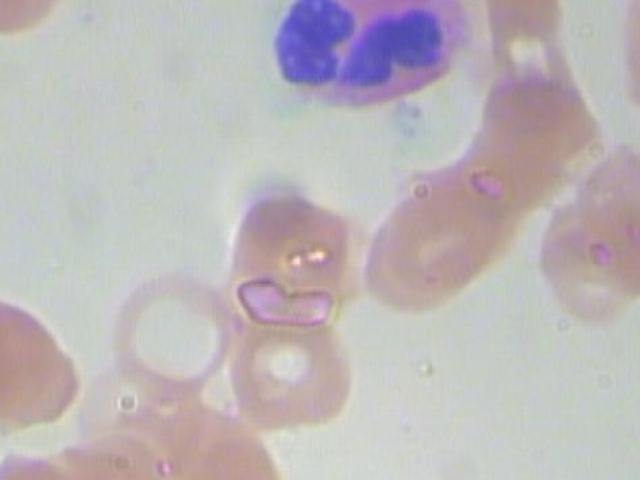RBC: (224, 186, 364, 333), (224, 300, 364, 447), (363, 177, 503, 324), (97, 259, 237, 405), (524, 186, 640, 333), (0, 292, 86, 432), (601, 0, 640, 140), (0, 449, 113, 480), (0, 287, 15, 426)
WBC: (262, 0, 478, 117)
